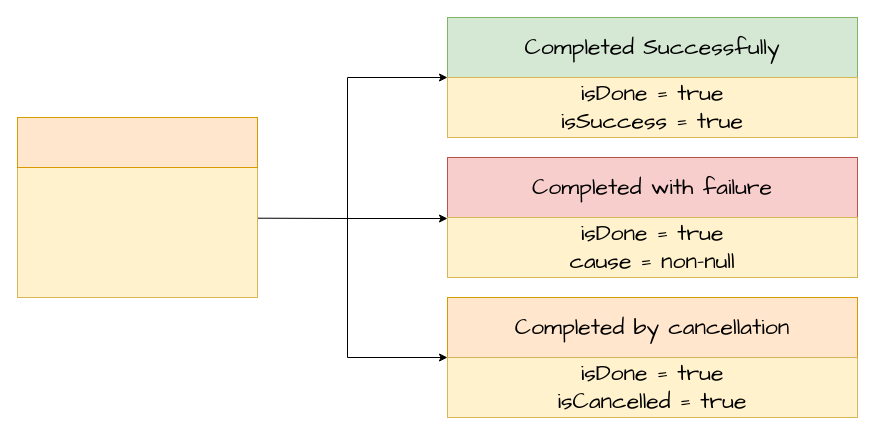
Some shapes in this 875 by 435 pixel diagram are drawn without their labels. Here are the shapes that lost their labels. From the top down, the centre of each, then its label:
point 137,142: Uncompleted
point 137,232: isDone = false isSuccess = false isCancelled = false cause = null
